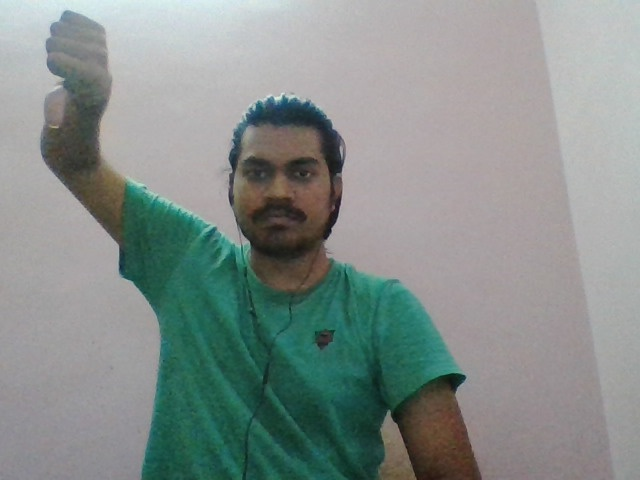ThumbsDown: (40, 7, 114, 134)
